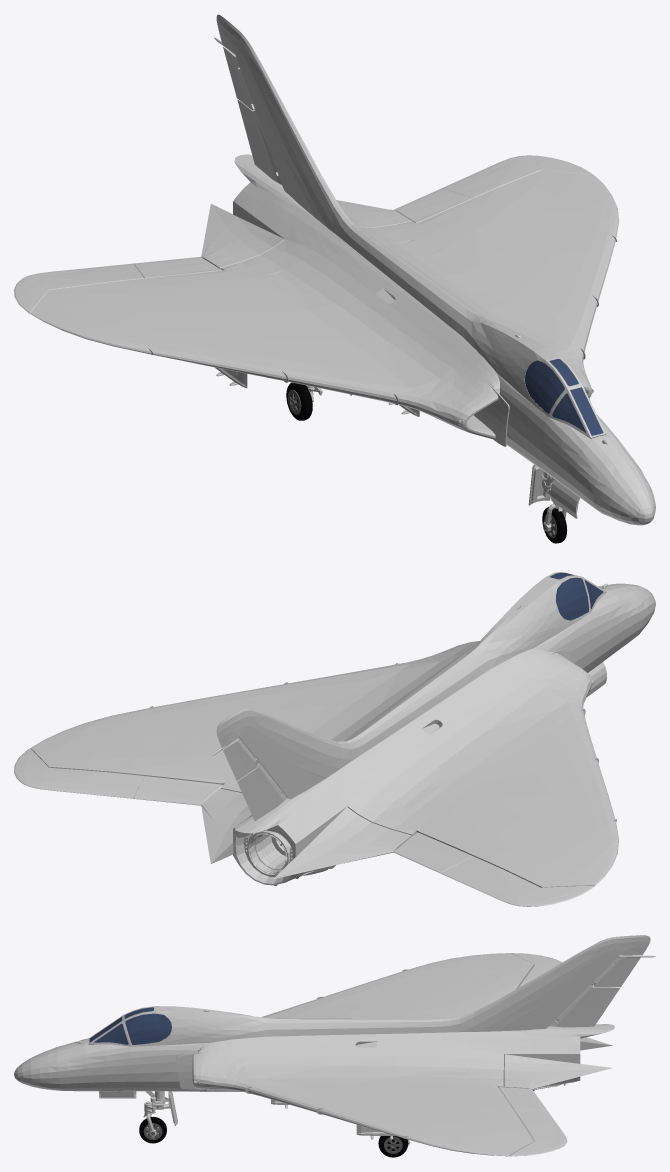
File: ModernPlane.fbx
3 renders of one model, top to bottom at view 1: azimuth 30°, elevation 25°; view 2: azimuth 150°, elevation 25°; view 3: azimuth 270°, elevation 25°, orthographic. The views are drawn at different scales.
Visible parts, largest first — view 1: Body_b_Skyray_Fuselage_Baked_0, Right.Wing_b_Skyray_Wings_Baked_0, Left.Wing_b_Skyray_Wings_Baked_0, Left.Aileron_b_Skyray_Wings_Baked_0, Right.Aileron_b_Skyray_Wings_Baked_0, Canopy_b_Skyray_Fuselage_Baked_0, Right.Flap_b_Skyray_Wings_Baked_0, Glass_Window_0, Right.Slat_b_Skyray_Wings_Baked_0, Rudder_b_Skyray_Wings_Baked_0, Left.Slat_b_Skyray_Wings_Baked_0, Left.Flap_b_Skyray_Wings_Baked_0; view 2: Body_b_Skyray_Fuselage_Baked_0, Right.Wing_b_Skyray_Wings_Baked_0, Left.Wing_b_Skyray_Wings_Baked_0, Left.Aileron_b_Skyray_Wings_Baked_0, Right.Aileron_b_Skyray_Wings_Baked_0, Right.Flap_b_Skyray_Wings_Baked_0, Canopy_b_Skyray_Fuselage_Baked_0, Rudder_b_Skyray_Wings_Baked_0, Left.Flap_b_Skyray_Wings_Baked_0, Glass_Window_0, Right.Slat_b_Skyray_Wings_Baked_0, Left.Slat_b_Skyray_Wings_Baked_0 (+2 smaller); view 3: Body_b_Skyray_Fuselage_Baked_0, Left.Wing_b_Skyray_Wings_Baked_0, Right.Wing_b_Skyray_Wings_Baked_0, Canopy_b_Skyray_Fuselage_Baked_0, Rudder_b_Skyray_Wings_Baked_0, Left.Aileron_b_Skyray_Wings_Baked_0, Left.Flap_b_Skyray_Wings_Baked_0, Glass_Window_0, Left.Slat_b_Skyray_Wings_Baked_0, Right.Aileron_b_Skyray_Wings_Baked_0, Right.Slat_b_Skyray_Wings_Baked_0, Front.LandingGear.1_b_Skyray_Wings_Baked_0 (+3 smaller).
Part boxes in pixels (bbox=[...]): Body_b_Skyray_Fuselage_Baked_0: bbox=[214, 14, 655, 525]; Right.Wing_b_Skyray_Wings_Baked_0: bbox=[30, 270, 388, 400]; Left.Wing_b_Skyray_Wings_Baked_0: bbox=[417, 170, 618, 347]; Left.Aileron_b_Skyray_Wings_Baked_0: bbox=[394, 155, 593, 223]; Right.Aileron_b_Skyray_Wings_Baked_0: bbox=[14, 256, 222, 313]; Canopy_b_Skyray_Fuselage_Baked_0: bbox=[480, 318, 605, 437]; Right.Flap_b_Skyray_Wings_Baked_0: bbox=[201, 204, 284, 268]; Glass_Window_0: bbox=[525, 359, 603, 435]; Right.Slat_b_Skyray_Wings_Baked_0: bbox=[113, 338, 283, 380]; Rudder_b_Skyray_Wings_Baked_0: bbox=[223, 47, 281, 184]; Left.Slat_b_Skyray_Wings_Baked_0: bbox=[579, 219, 618, 301]; Left.Flap_b_Skyray_Wings_Baked_0: bbox=[336, 200, 411, 227]; Body_b_Skyray_Fuselage_Baked_0: bbox=[211, 583, 655, 885]; Right.Wing_b_Skyray_Wings_Baked_0: bbox=[416, 712, 618, 887]; Left.Wing_b_Skyray_Wings_Baked_0: bbox=[30, 666, 387, 784]; Left.Aileron_b_Skyray_Wings_Baked_0: bbox=[14, 748, 222, 805]; Right.Aileron_b_Skyray_Wings_Baked_0: bbox=[393, 832, 593, 906]; Right.Flap_b_Skyray_Wings_Baked_0: bbox=[273, 807, 411, 879]; Canopy_b_Skyray_Fuselage_Baked_0: bbox=[480, 572, 605, 643]; Rudder_b_Skyray_Wings_Baked_0: bbox=[223, 738, 286, 820]; Left.Flap_b_Skyray_Wings_Baked_0: bbox=[201, 788, 251, 863]; Glass_Window_0: bbox=[550, 572, 603, 620]; Right.Slat_b_Skyray_Wings_Baked_0: bbox=[579, 761, 618, 838]; Left.Slat_b_Skyray_Wings_Baked_0: bbox=[114, 685, 279, 717]; Body_b_Skyray_Fuselage_Baked_0: bbox=[14, 935, 655, 1095]; Left.Wing_b_Skyray_Wings_Baked_0: bbox=[256, 1083, 533, 1156]; Right.Wing_b_Skyray_Wings_Baked_0: bbox=[261, 953, 533, 1017]; Canopy_b_Skyray_Fuselage_Baked_0: bbox=[88, 1006, 259, 1046]; Rudder_b_Skyray_Wings_Baked_0: bbox=[549, 957, 640, 1027]; Left.Aileron_b_Skyray_Wings_Baked_0: bbox=[498, 1087, 567, 1156]; Left.Flap_b_Skyray_Wings_Baked_0: bbox=[503, 1054, 612, 1089]; Glass_Window_0: bbox=[89, 1007, 171, 1044]; Left.Slat_b_Skyray_Wings_Baked_0: bbox=[320, 1107, 435, 1145]; Right.Aileron_b_Skyray_Wings_Baked_0: bbox=[510, 953, 562, 988]; Right.Slat_b_Skyray_Wings_Baked_0: bbox=[326, 963, 435, 996]; Front.LandingGear.1_b_Skyray_Wings_Baked_0: bbox=[143, 1091, 170, 1136].
Bounding box in the file's own units: 66.06 × 31.46 × 88.26.
